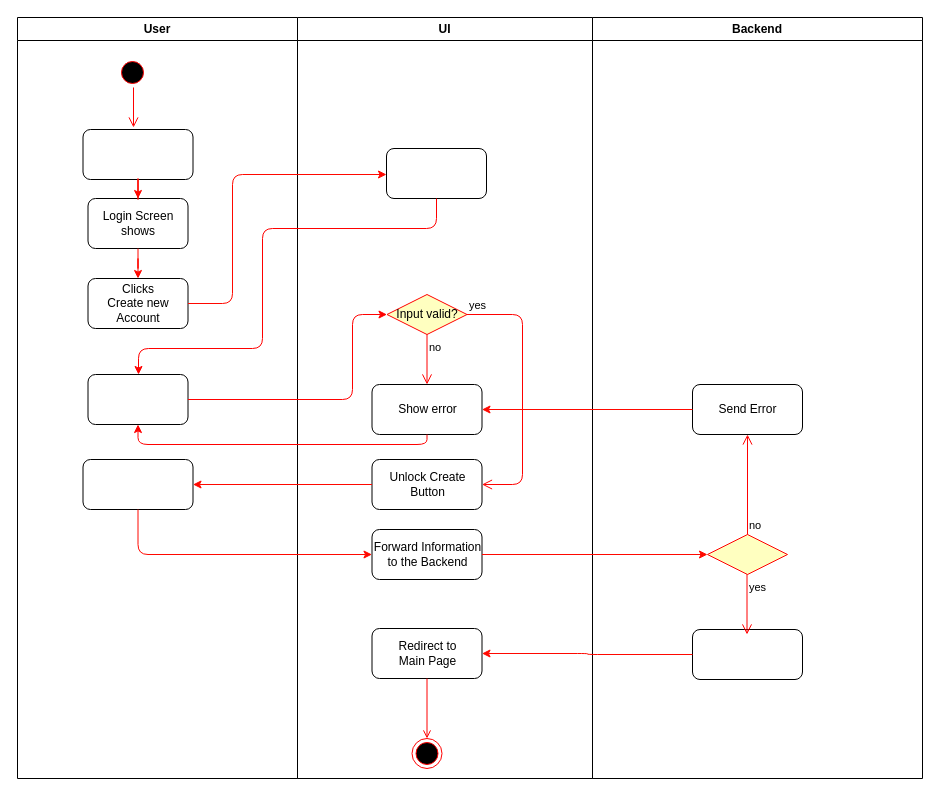
The diagram is 940 pixels wide and 796 high, and some of its shapes have lost their labels. The centre of each missing label's shape, as x and y in pixels:
Information correct?: point 747,554
Opens App: point 137,154
Press Create Button: point 137,484
Send Success: point 747,654
Shows Mask for new Account: point 436,173
Types in Information: point 137,399
